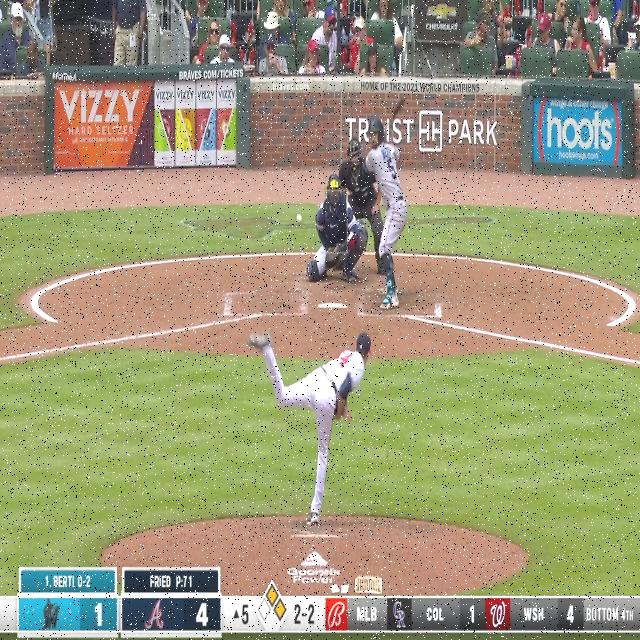baseball: (296, 213, 302, 224)
